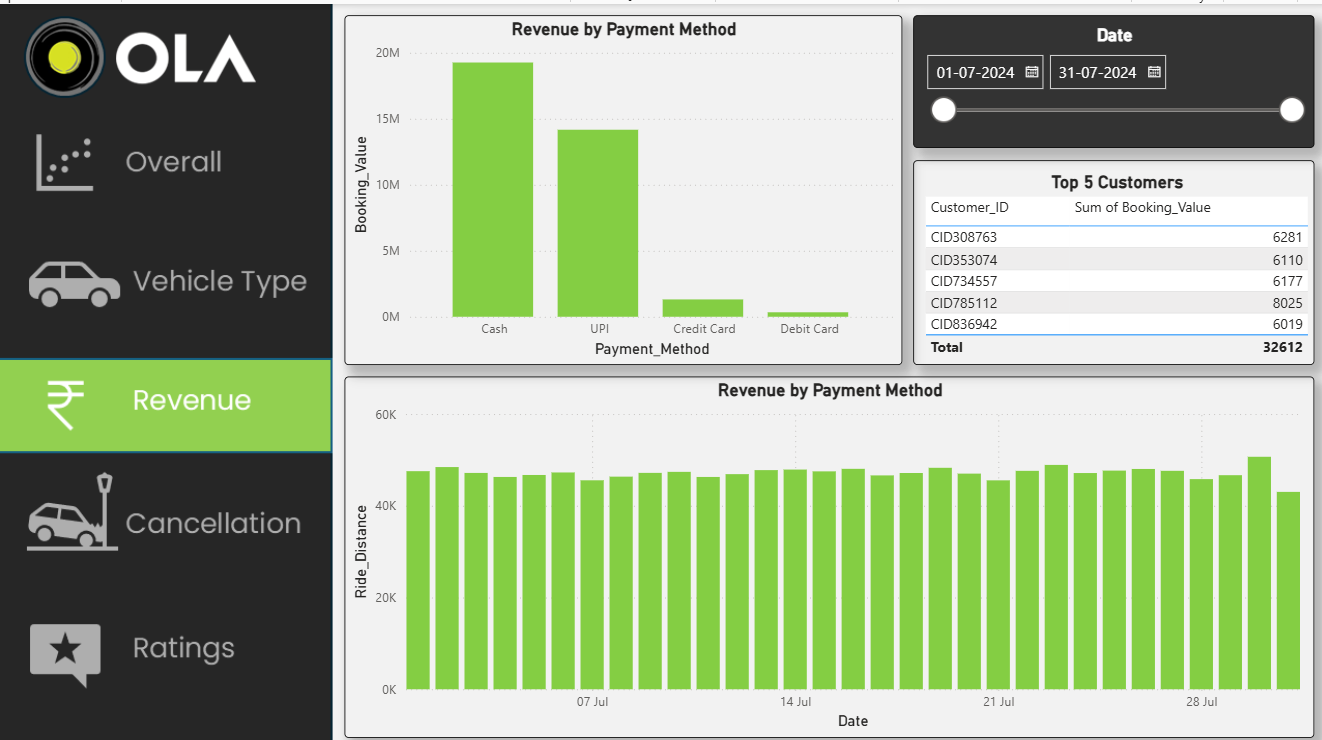

This screenshot's page, from the dashboard's own definition file:
{"tool":"powerbi","page":{"name":"Revenue","canvas":[1280,720],"ordinal":2},"visuals":[{"type":"actionButton","box":[0,219.6,324.1,91.7],"z":0},{"type":"actionButton","box":[0,106.2,324.5,90.5],"z":1000},{"type":"actionButton","box":[0,445.2,324.5,114.6],"z":2000},{"type":"actionButton","box":[0,576.7,324.5,114.6],"z":3000},{"type":"clusteredColumnChart","title":"Revenue by Payment Method","fields":{"Y":["Sum(OLA Bookings Excel file.Booking_Value)"],"Category":["OLA Bookings Excel file.Payment_Method"]},"box":[335.4,10.9,538.1,337.8],"z":4000},{"type":"columnChart","title":"Revenue by Payment Method","fields":{"Category":["OLA Bookings Excel file.Date"],"Y":["Sum(OLA Bookings Excel file.Ride_Distance)"]},"box":[335.4,359.5,936.2,348.7],"z":5000},{"type":"slicer","title":"Date","fields":{"Values":["OLA Bookings Excel file.Date"]},"box":[884.3,10.9,387.3,127.9],"z":6000},{"type":"tableEx","title":"Top 5 Customers ","fields":{"Values":["OLA Bookings Excel file.Customer_ID","Sum(OLA Bookings Excel file.Booking_Value)"]},"box":[883.8,151.2,387.5,197.5],"z":7000}]}

Visuals, with their boxes on the page's 1280x720 design canvas (x1, y1, x2, y2). These are canvas units, not pixel positions in the 1322x740 screenshot, which may show the page scaled, cropped or inside an application window:
actionButton: (x1=0, y1=220, x2=324, y2=311)
actionButton: (x1=0, y1=106, x2=324, y2=197)
actionButton: (x1=0, y1=445, x2=324, y2=560)
actionButton: (x1=0, y1=577, x2=324, y2=691)
"Revenue by Payment Method" clusteredColumnChart: (x1=335, y1=11, x2=874, y2=349)
"Revenue by Payment Method" columnChart: (x1=335, y1=360, x2=1272, y2=708)
"Date" slicer: (x1=884, y1=11, x2=1272, y2=139)
"Top 5 Customers " tableEx: (x1=884, y1=151, x2=1271, y2=349)
